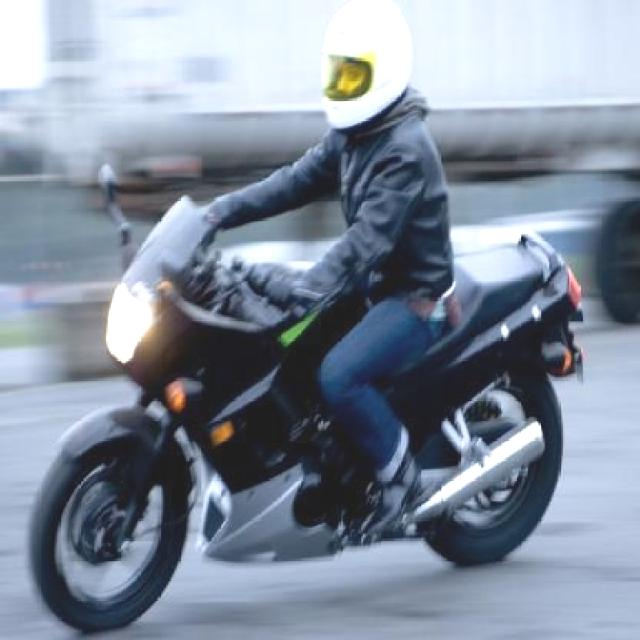Cycle: (30, 155, 596, 633)
